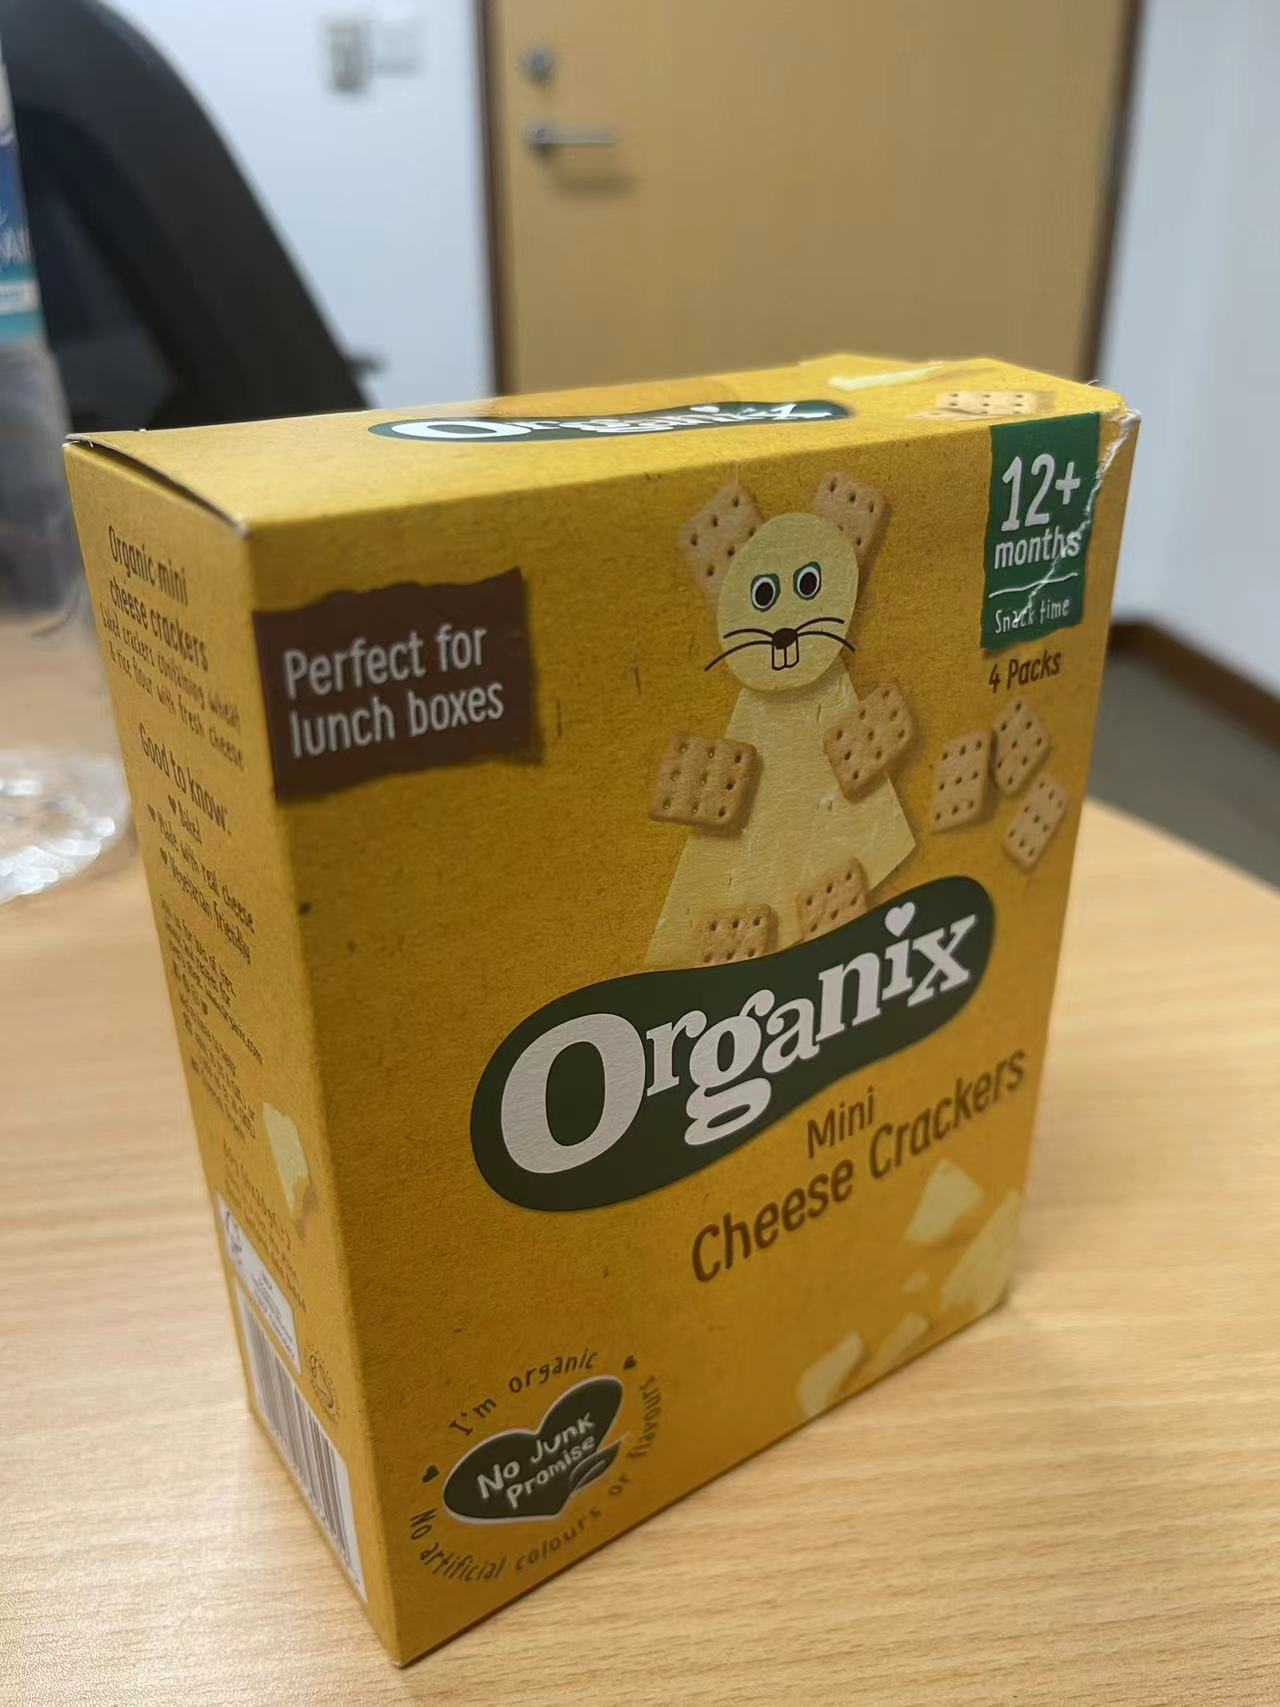Crackers_1-99g_NonHalal_NonHealthy: (66, 358, 1152, 1694)
